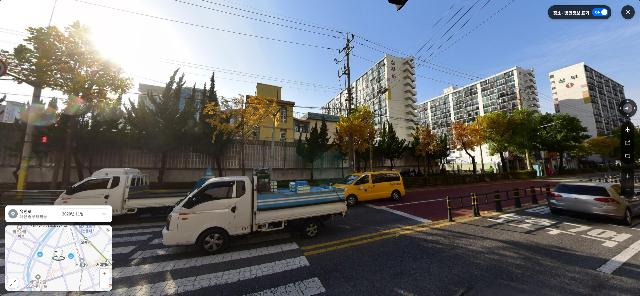ginkgo: (204, 95, 284, 177), (334, 105, 381, 174)
other: (1, 22, 135, 193), (121, 69, 202, 188), (475, 108, 541, 181), (532, 112, 591, 176), (196, 71, 227, 179), (446, 118, 487, 180), (296, 116, 333, 184), (408, 121, 451, 178), (376, 119, 408, 171), (577, 137, 623, 171)
